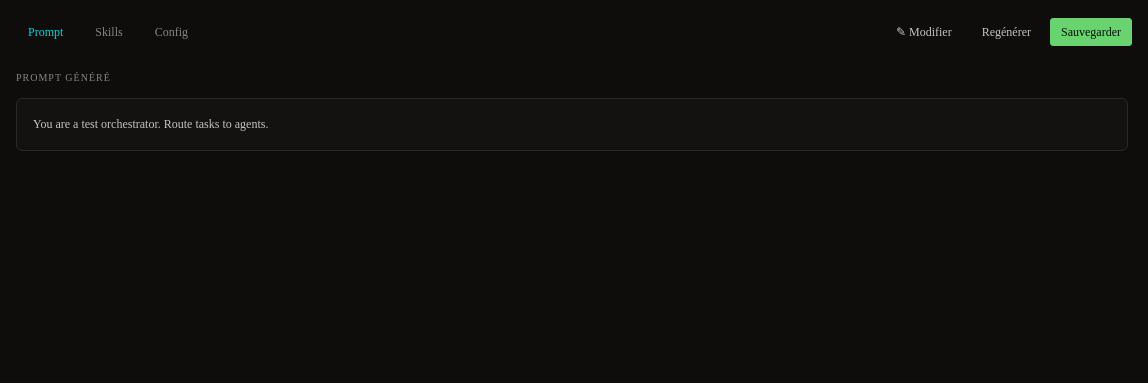
OrchestratorResultPanel › clicking Config tab shows JSON
Click the button "Config".
click(171, 32)  # box x1=139 y1=12 x2=204 y2=52
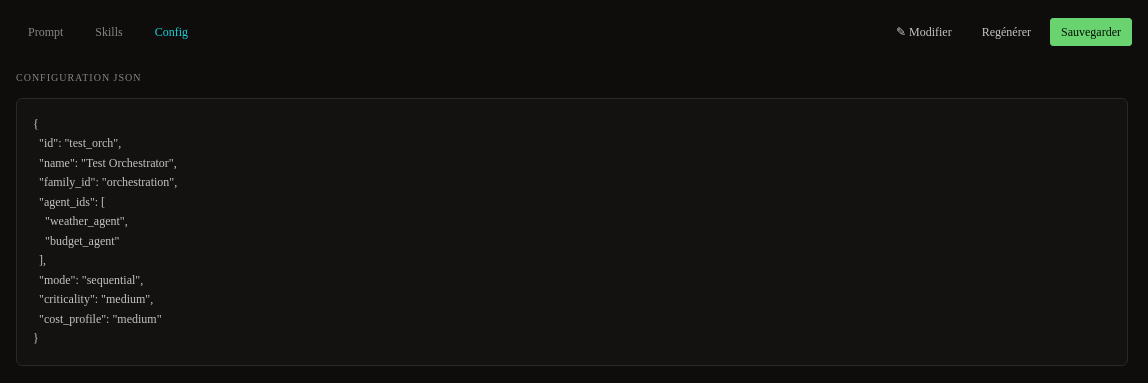
Check: the text "test_orch" is shown, box x1=33 y1=116 x2=177 y2=345
